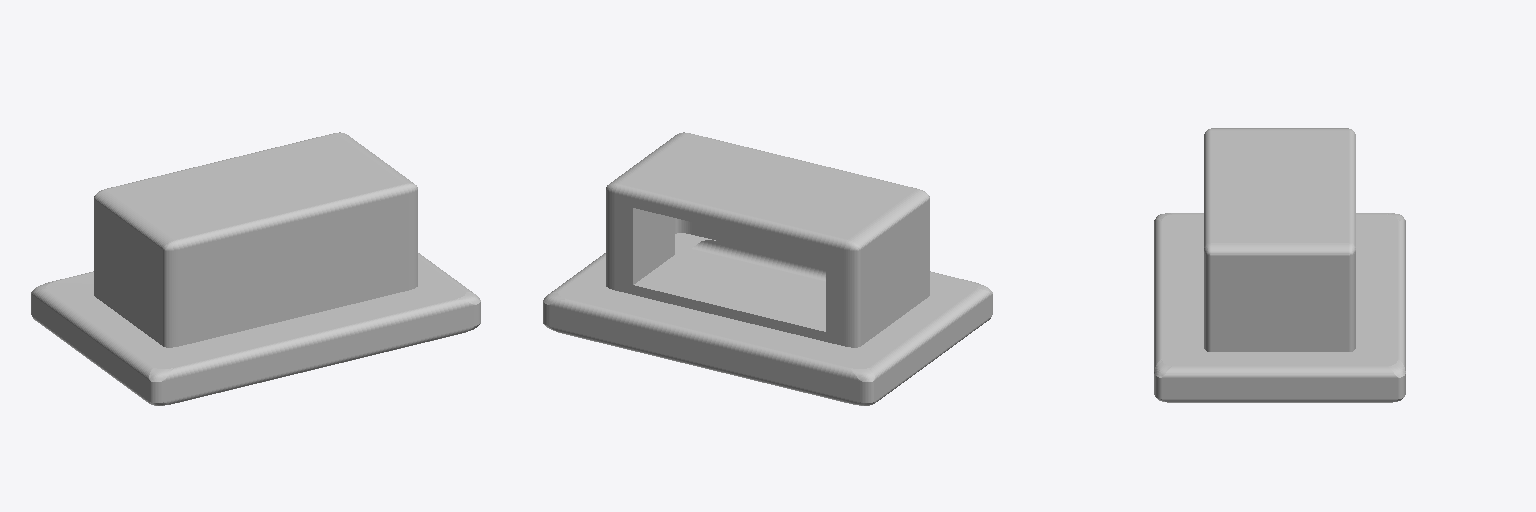
Rendered from ShopModel.obj.
3 views of the same model, side by side, from view 1: azimuth 30°, elevation 25°; view 2: azimuth 150°, elevation 25°; view 3: azimuth 270°, elevation 25° (orthographic).
Visible parts, largest first — view 1: Cube, Cube.001; view 2: Cube, Cube.001; view 3: Cube, Cube.001.
Boxes of the visible parts, <box> form: Cube: <box>94,132,417,347</box>; Cube.001: <box>31,253,480,405</box>; Cube: <box>606,132,929,347</box>; Cube.001: <box>543,233,992,405</box>; Cube: <box>1204,128,1355,351</box>; Cube.001: <box>1154,213,1405,402</box>.
Bounding box in the file's own units: 21.65 × 8.67 × 14.26.